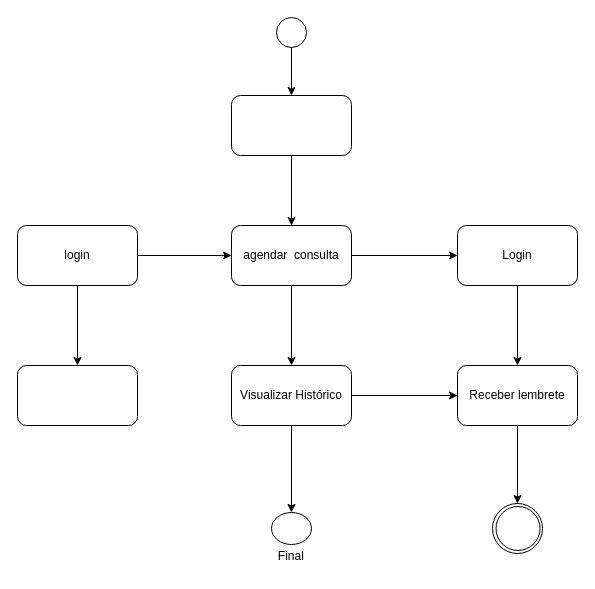
The diagram is 595 pixels wide and 589 high, and some of its shapes have lost their labels. The shapes that lost their labels are listed below. From the top down, each one's box as (x1, y1, x2, y2) in pixels, then its label:
(230, 94, 352, 156): localizar ubs
(16, 364, 138, 426): Consultar Mendicamentos
